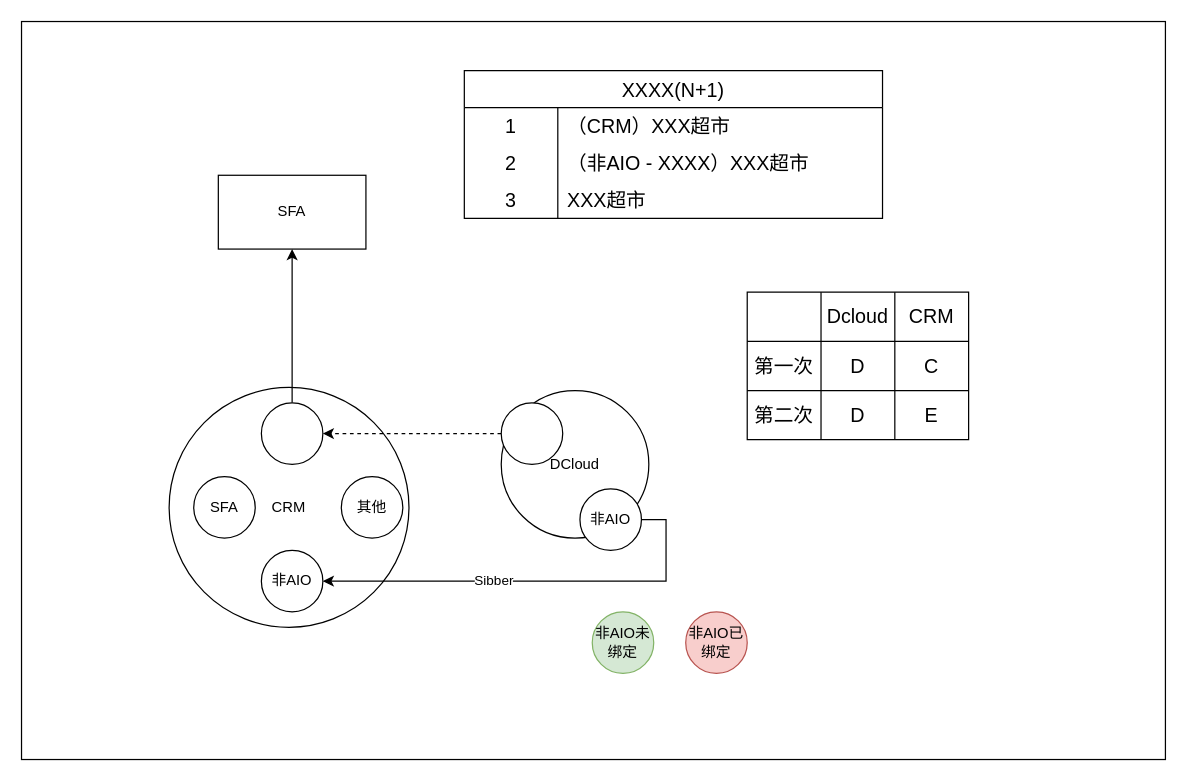
This 1187x781 diagram has some shape labels left out. The shapes that lost their labels are listed below. From the top down, each one's centre as x and y in pixels, then its label:
the point at 291,433: 基于AIO创建
the point at 531,433: AIO
